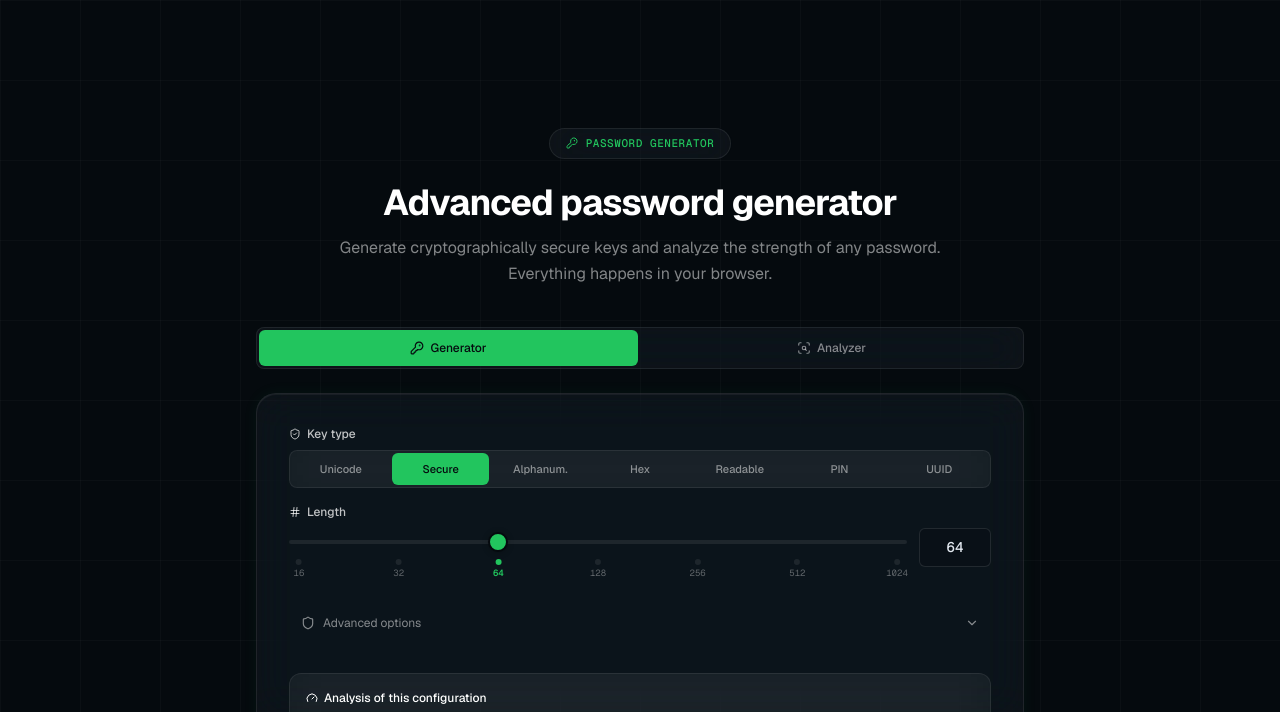
Test: GeneratorContent — tabs › starts on the generator tab and switches to the analyzer and back
The width and height of the screenshot is (1280, 712).
Expected: the field labelled "Password to analyze" is not shown
Click the tab "Analyzer": [832, 348] box top-left (642, 330), bottom-right (1021, 366)
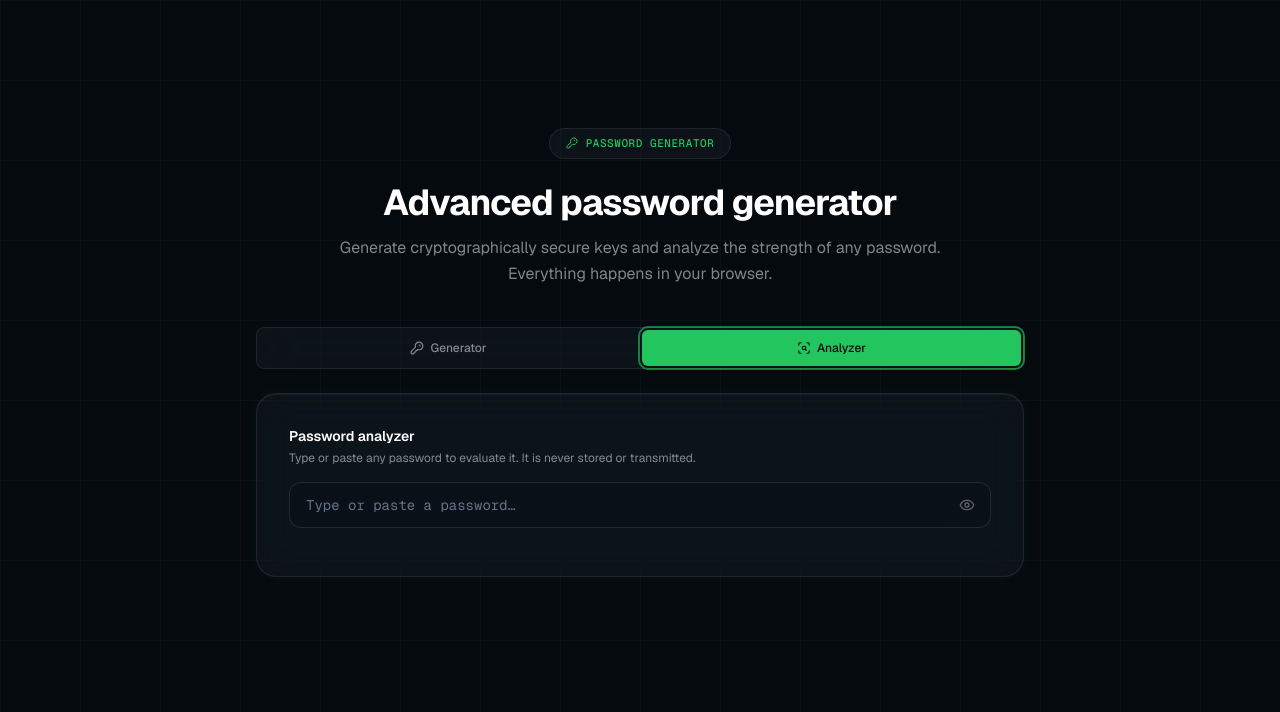
Expected: the heading "Password analyzer" is shown, top-left (289, 426), bottom-right (415, 444)
Expected: the password field named "Password to analyze" is shown, top-left (289, 482), bottom-right (991, 528)
Click the tab "Generator": [448, 348] box top-left (259, 330), bottom-right (638, 366)
(page scrolled)
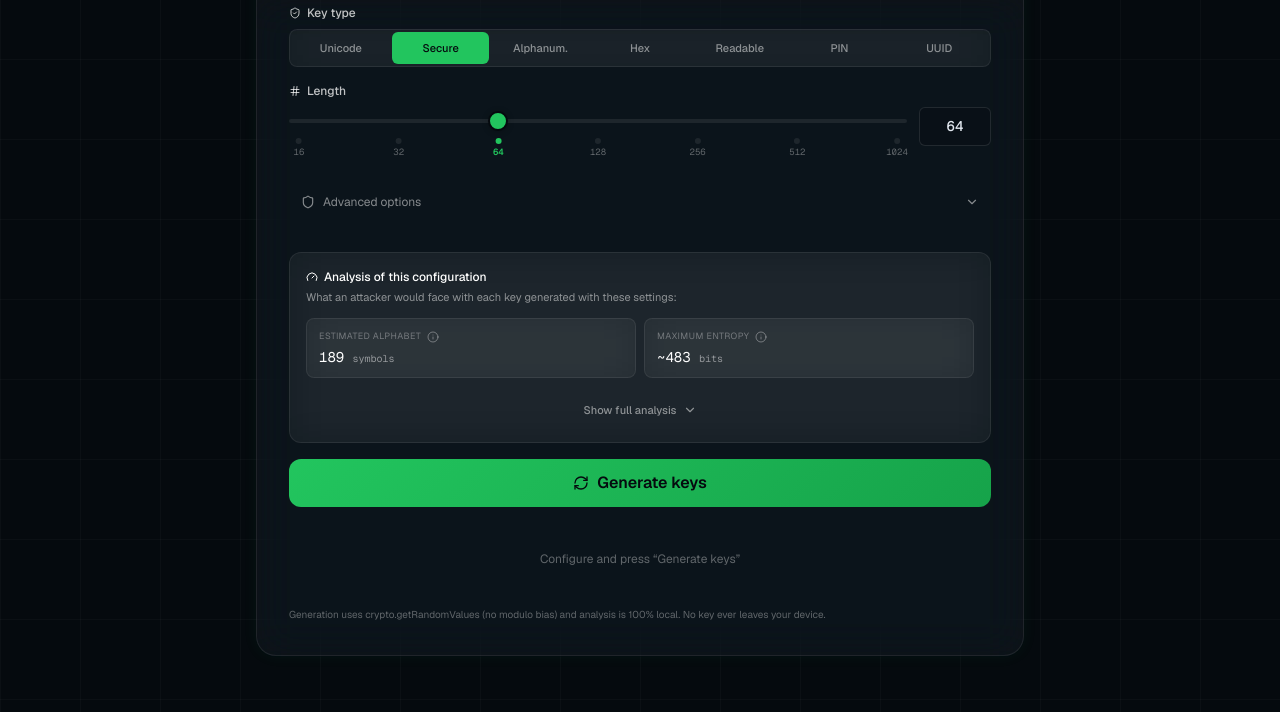
Expected: the button "Generate keys" is shown, top-left (289, 459), bottom-right (991, 507)
